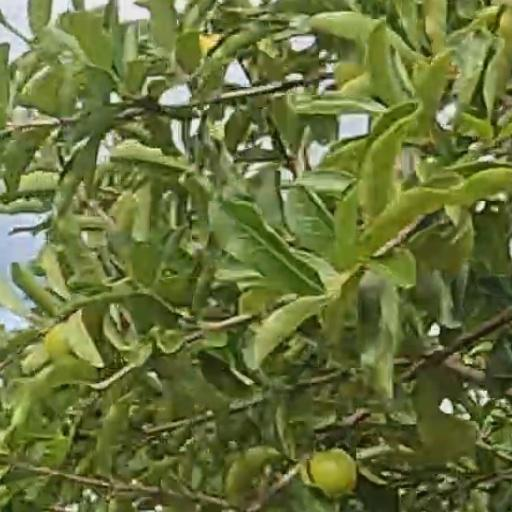acerola_verde: (313, 450, 356, 496)
